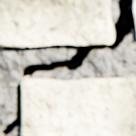brick: (22, 76, 135, 135), (0, 0, 113, 46), (134, 0, 135, 20)
crack: (0, 0, 135, 135)
